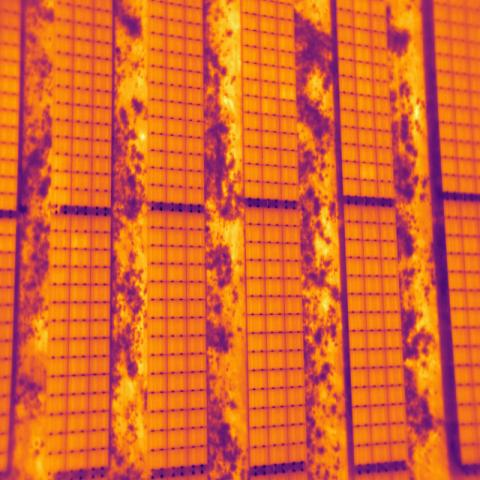fault: (359, 163, 377, 181)
